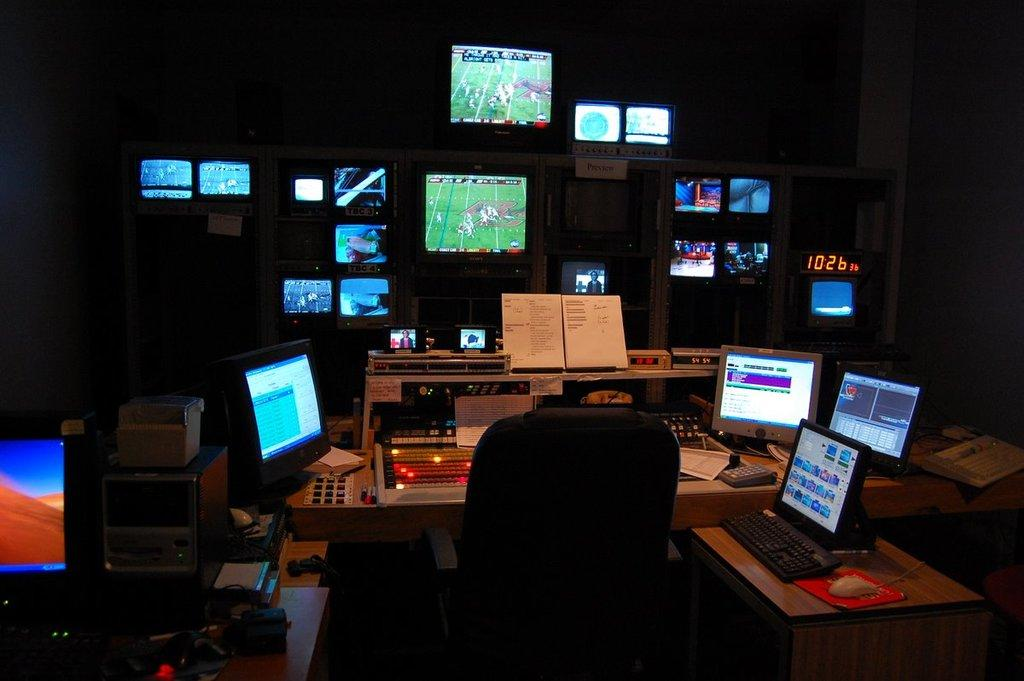Computer-monitor: (0, 418, 102, 633), (208, 345, 332, 508), (770, 418, 876, 557), (710, 346, 823, 460), (830, 372, 936, 472)
